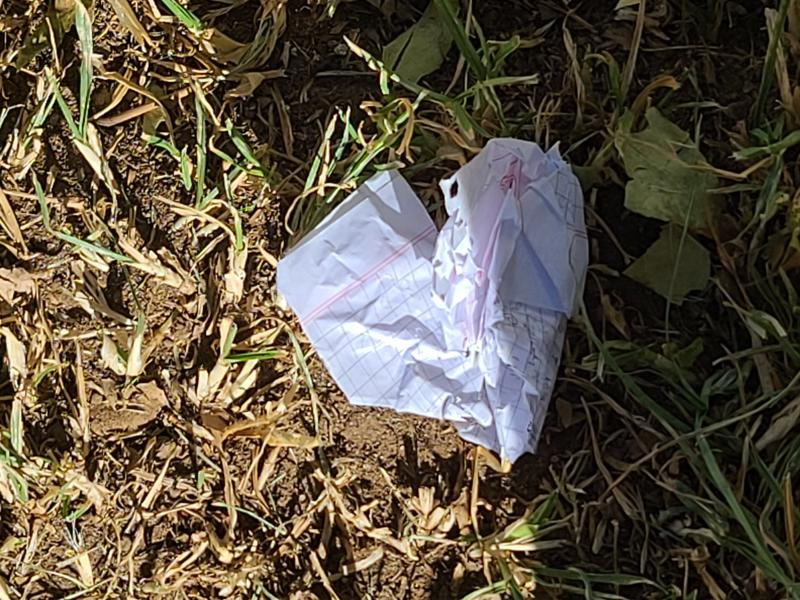papel: (275, 138, 590, 472)
